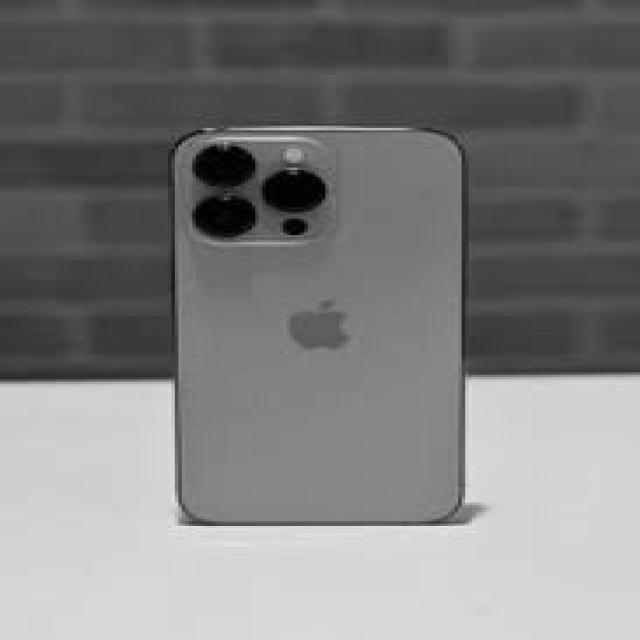No gun_phone: (172, 130, 465, 522)
